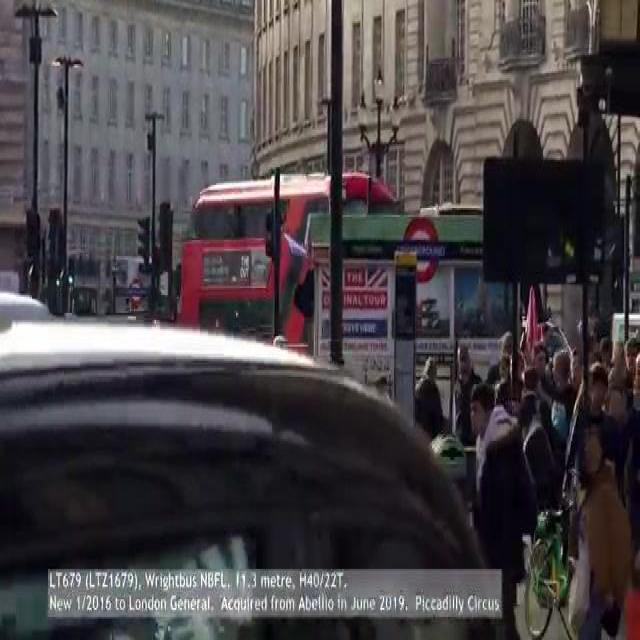motorcycle: (176, 164, 398, 328)
